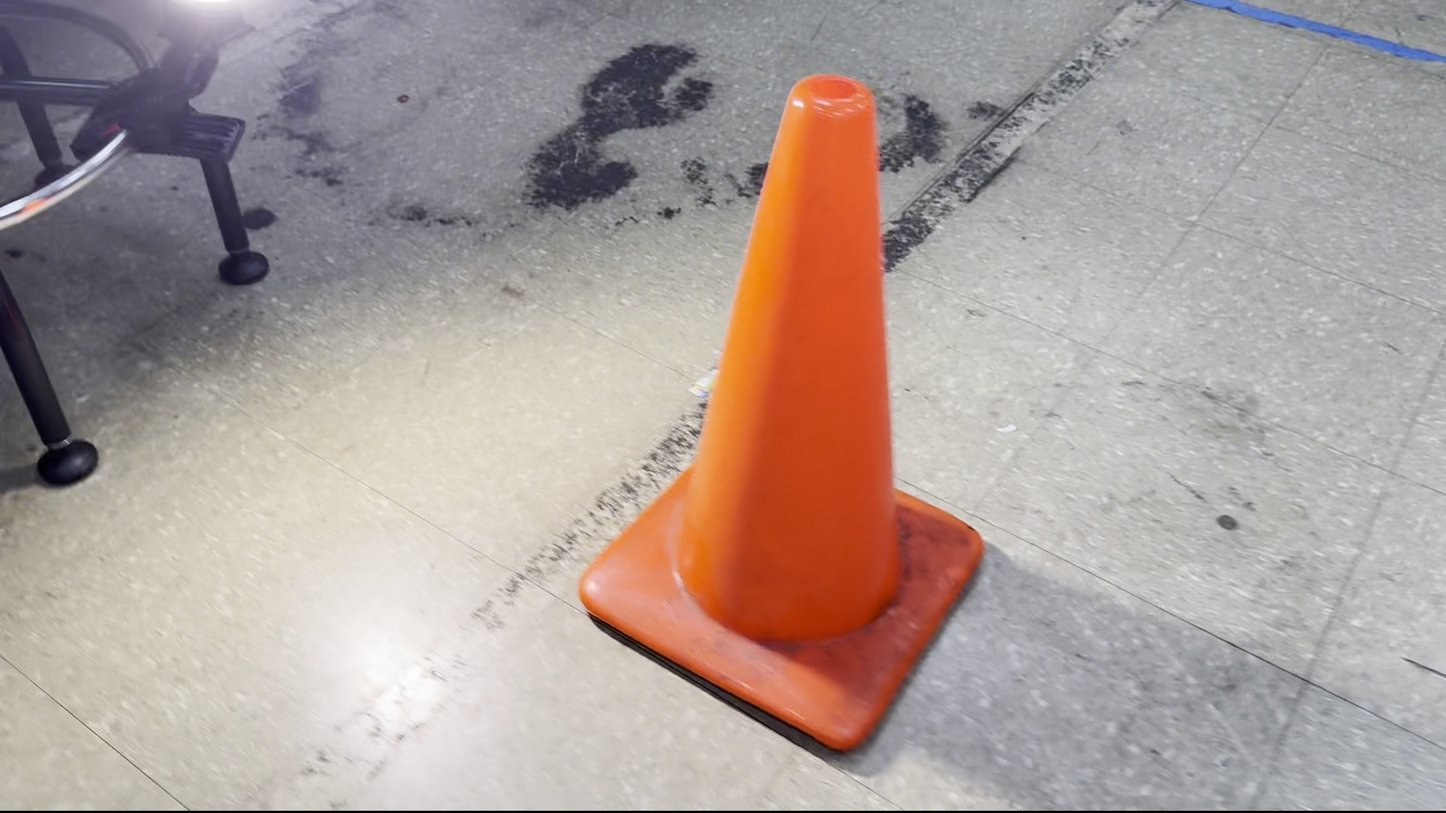traffic_cone: (577, 72, 985, 753)
